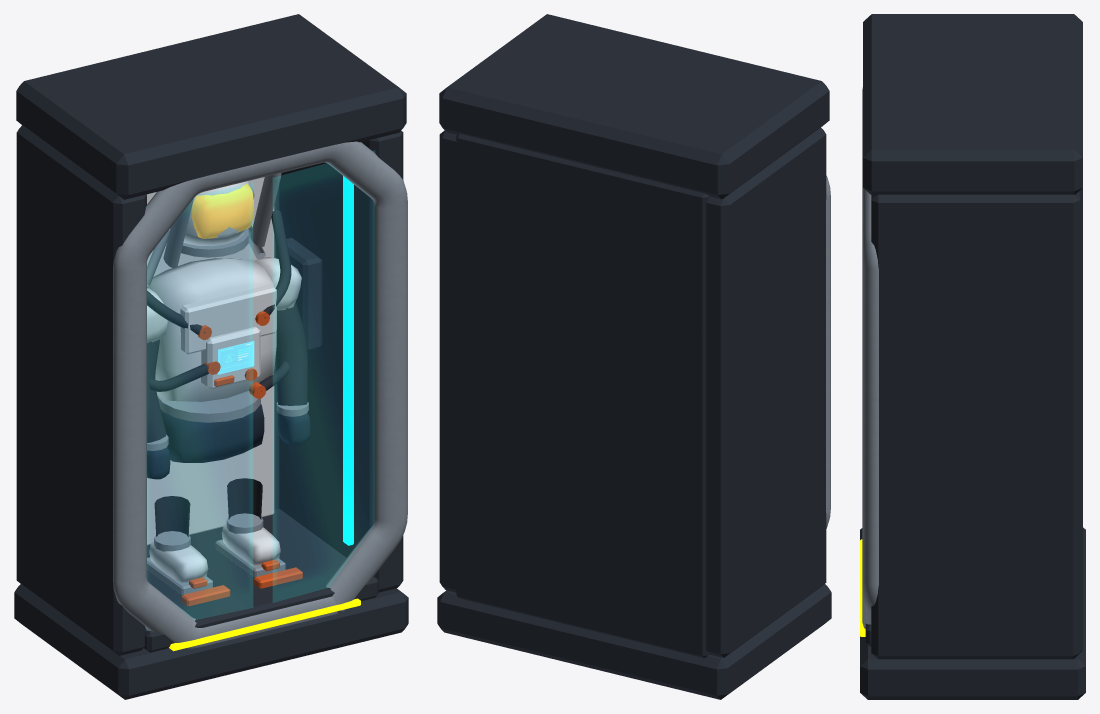
The model's file is locker_r1_03.glb.
The picture shows the model from 3 angles, left to right: view 1: azimuth 30°, elevation 25°; view 2: azimuth 150°, elevation 25°; view 3: azimuth 270°, elevation 25°; orthographic projection.
Visible parts, largest first — view 1: Locker03_HexagonalCarbonAlcove, Locker03_CantileverGantryCrane, Locker03_FacetedHexTranslucentDoors, EVAKit_WhiteHelmetAndTorsoArmor, EVAKit_BallisticCharcoalSleevesAndHoses, Locker03_WhiteInnerHexBackplate, EVAKit_MachinedGantryRingsAndSoles, EVAKit_OrbitalNavySuitLayers, Locker03_HexPerimeterCyanLED, EVAKit_GoldIridiumBubbleVisor, Locker03_BootDeckAmberLED, EVAKit_SignalOrangeValvesAndCouplings (+2 smaller); view 2: Locker03_HexagonalCarbonAlcove, Locker03_CantileverGantryCrane; view 3: Locker03_HexagonalCarbonAlcove, Locker03_CantileverGantryCrane.
Part boxes in pixels (box(x1,y1,x2,y2)): Locker03_HexagonalCarbonAlcove: box(14, 14, 408, 699); Locker03_CantileverGantryCrane: box(113, 141, 407, 648); Locker03_FacetedHexTranslucentDoors: box(146, 151, 374, 630); EVAKit_WhiteHelmetAndTorsoArmor: box(147, 181, 301, 582); EVAKit_BallisticCharcoalSleevesAndHoses: box(147, 210, 307, 537); Locker03_WhiteInnerHexBackplate: box(147, 177, 274, 545); EVAKit_MachinedGantryRingsAndSoles: box(147, 182, 308, 595); EVAKit_OrbitalNavySuitLayers: box(147, 404, 310, 479); Locker03_HexPerimeterCyanLED: box(343, 176, 353, 545); EVAKit_GoldIridiumBubbleVisor: box(191, 183, 254, 238); Locker03_BootDeckAmberLED: box(169, 598, 360, 651); EVAKit_SignalOrangeValvesAndCouplings: box(189, 311, 279, 588); Locker03_HexagonalCarbonAlcove: box(437, 14, 831, 699); Locker03_CantileverGantryCrane: box(826, 175, 830, 528); Locker03_HexagonalCarbonAlcove: box(860, 14, 1085, 699); Locker03_CantileverGantryCrane: box(862, 87, 878, 628).
Bounding box in the file's own units: 1.21 × 2.15 × 0.8.
Materials: 11 (11 with a texture image).
